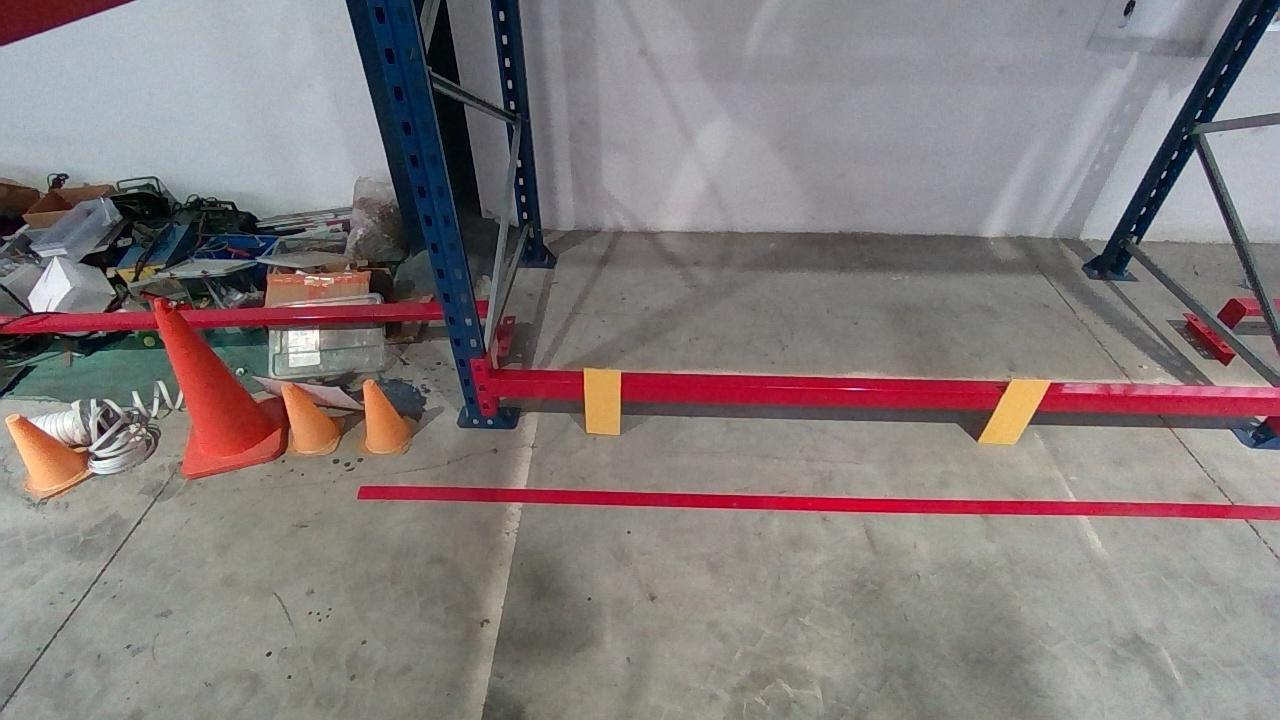h_rack: (493, 377, 1276, 414)
orange_strip: (975, 379, 1054, 444), (582, 368, 620, 432)
red_line: (357, 484, 1277, 518)
